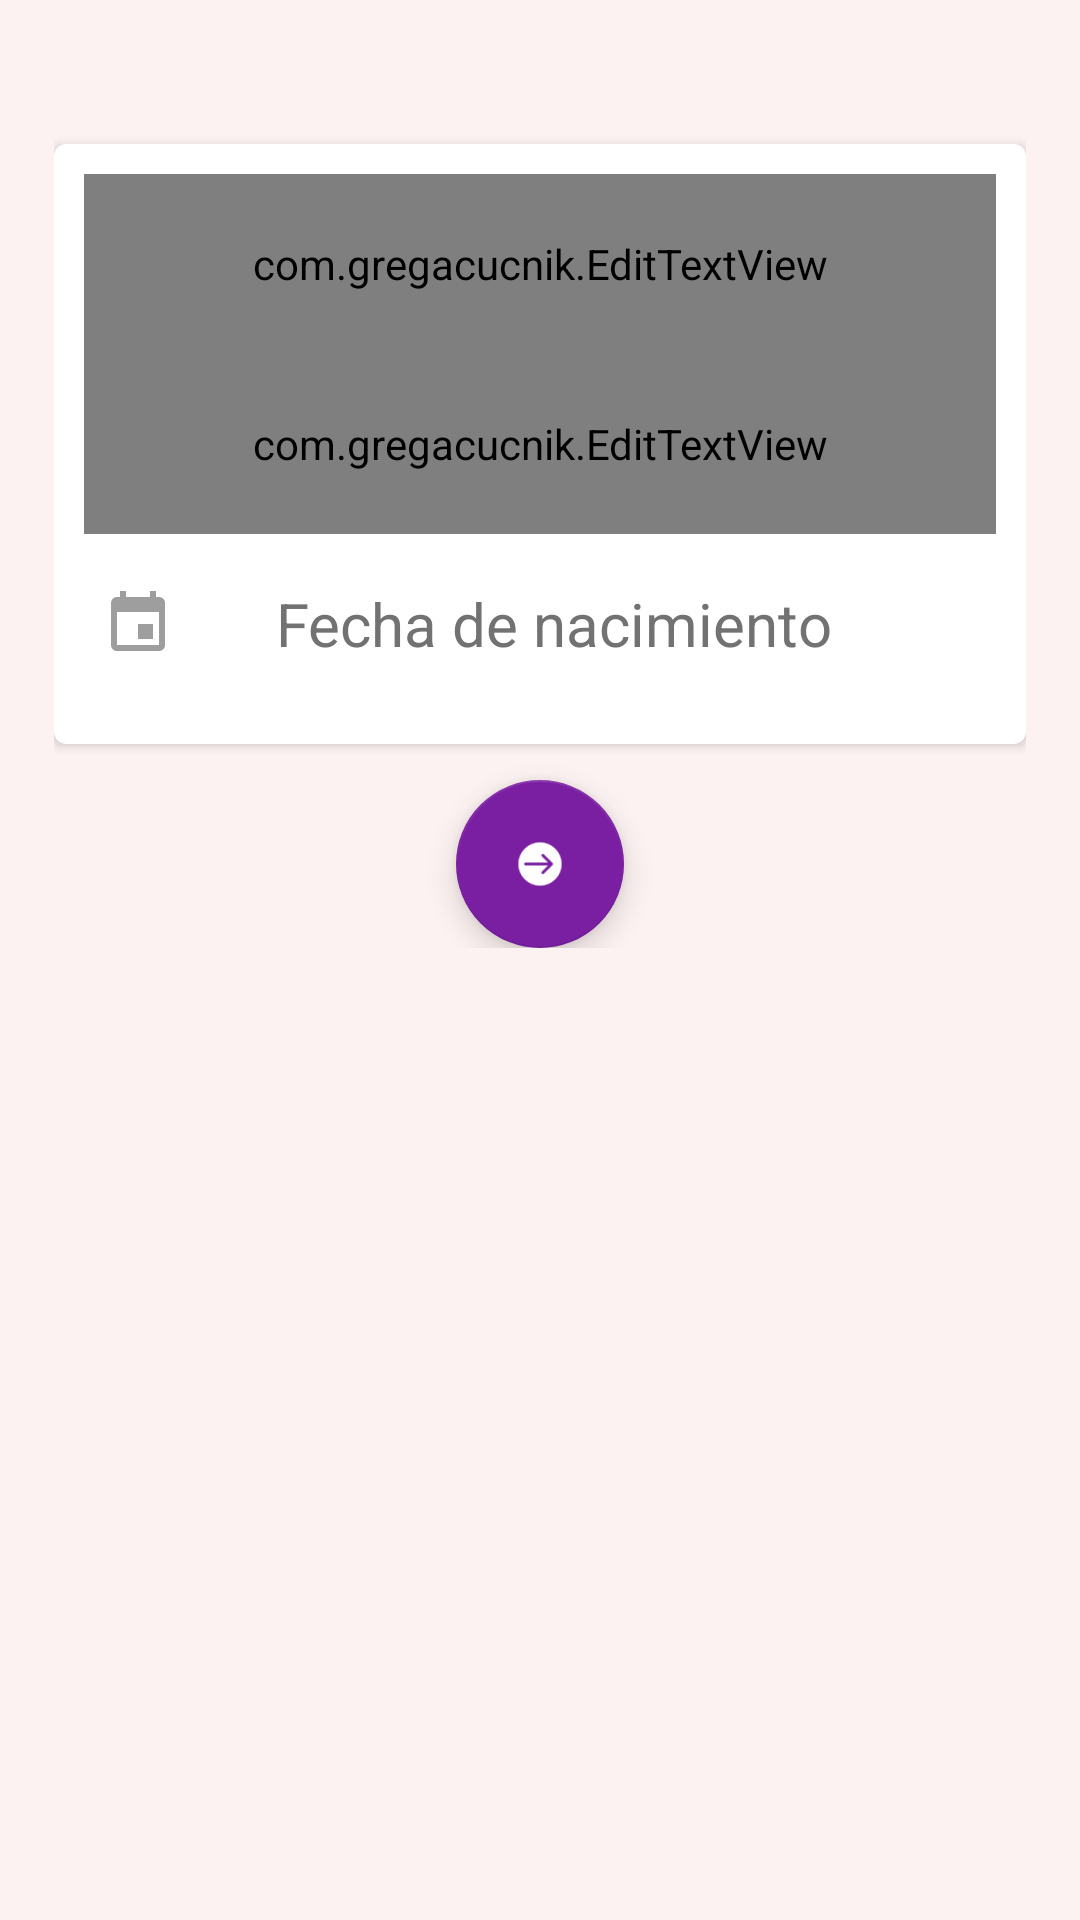

Where icons sit on this 1080 x 1920 app screen, as (x1, y1, x2, y2):
circle next: (456, 780, 624, 948)
